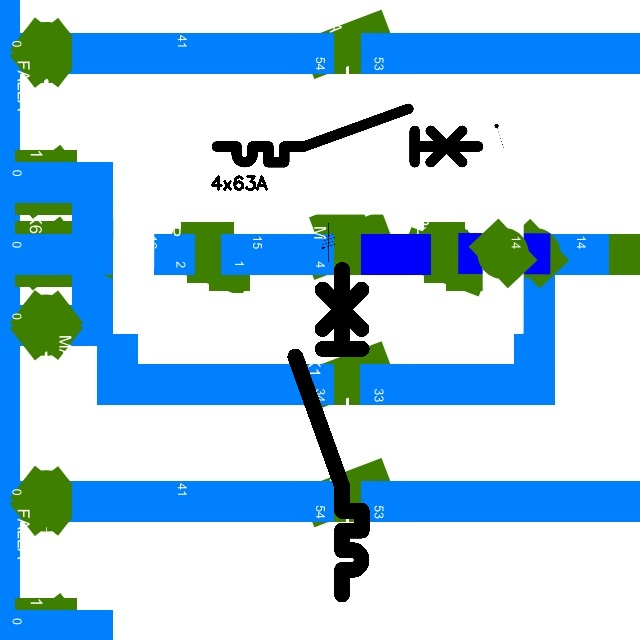interruptor_termomagnetico: (287, 261, 370, 602), (210, 102, 485, 169)
